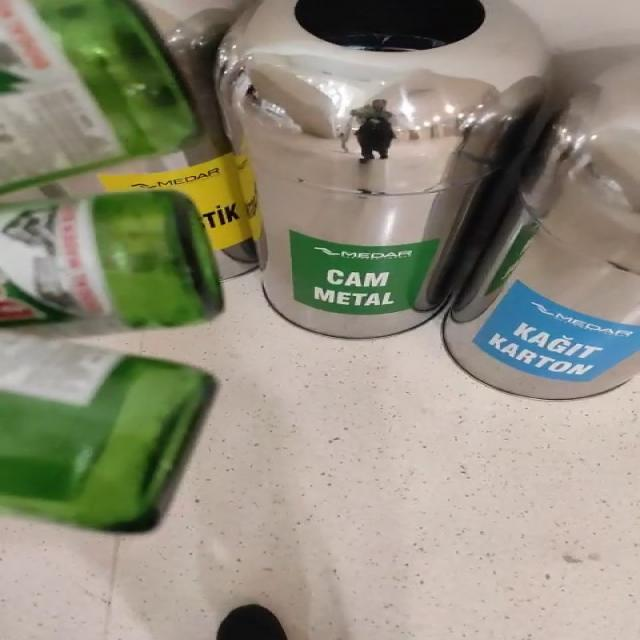bin: (217, 0, 549, 338)
glass: (3, 335, 213, 532), (0, 0, 196, 192), (0, 190, 223, 337)
